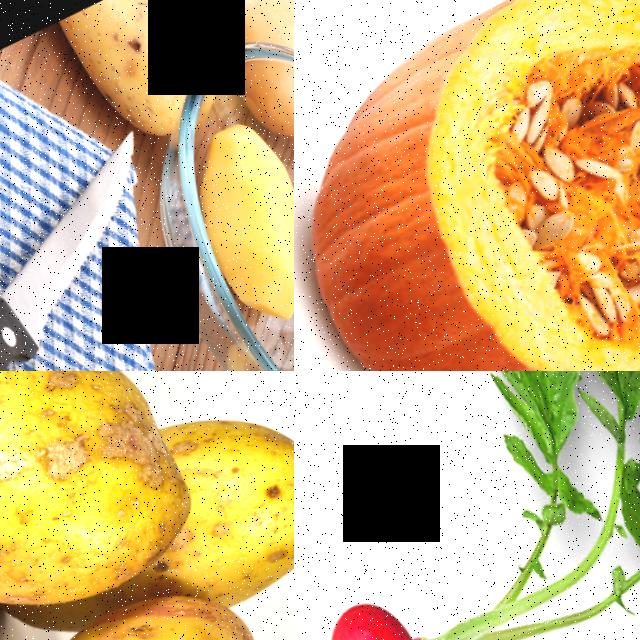potato: (0, 371, 225, 640), (142, 372, 294, 614), (160, 104, 294, 341), (0, 562, 294, 640), (46, 0, 218, 133), (182, 0, 294, 66)
pumpkin: (294, 0, 640, 371)
radishes: (294, 535, 566, 640)
